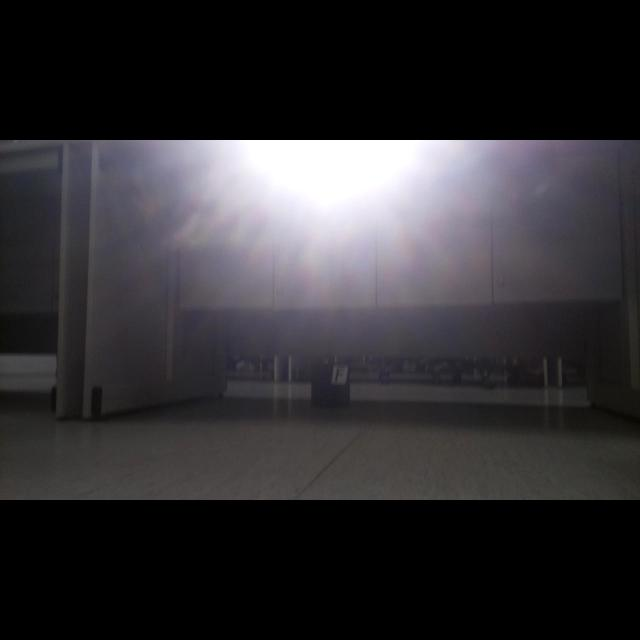F: (335, 368, 345, 381)
